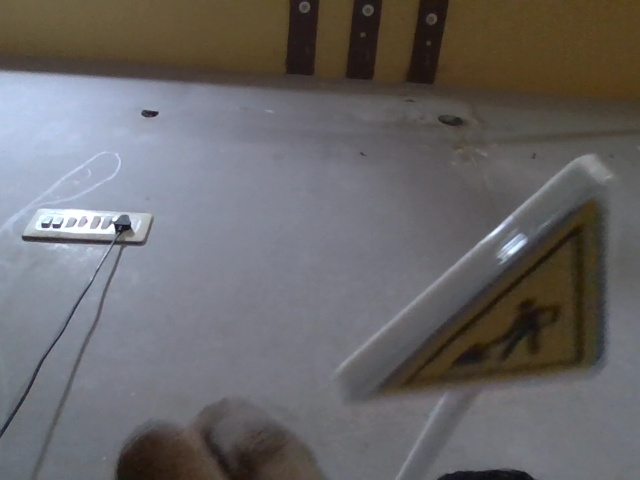workinprogress: (340, 126, 620, 412)
